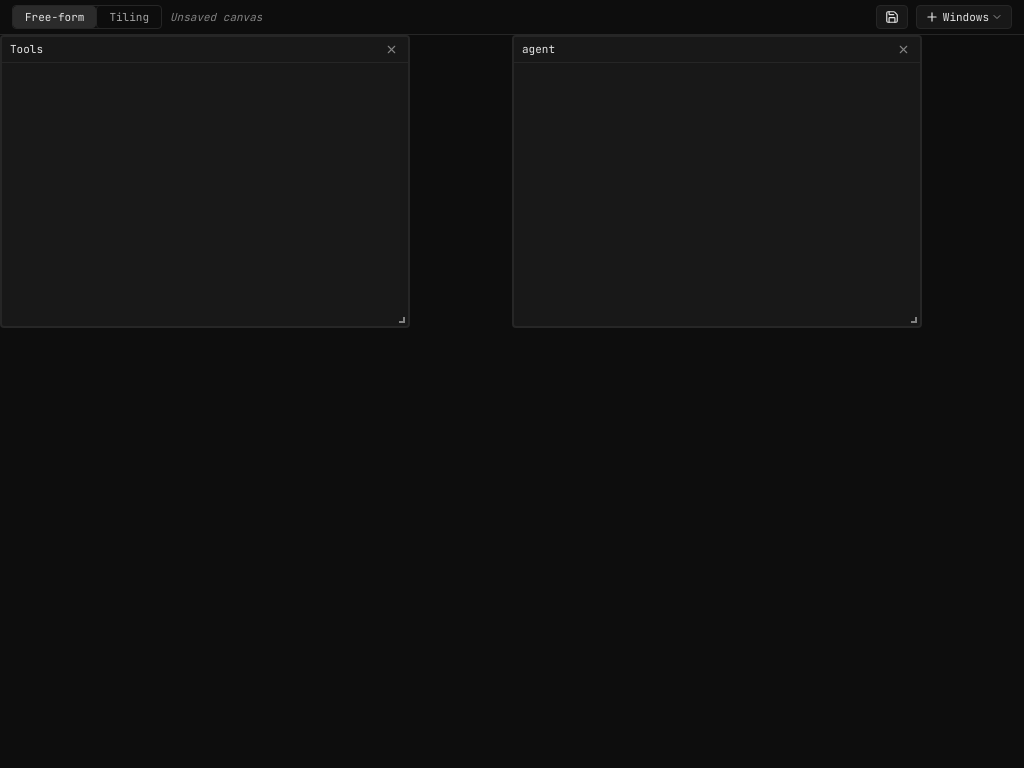
Test: WorkspaceCanvas - fullscreen reconciliation › un-hides the remaining tile when the fullscreen tile is removed by an external store mutation
Press the mouse on the element titled "Click to fullscreen · drag to move": coordinates (205, 50) left=2, top=37, right=408, bottom=63
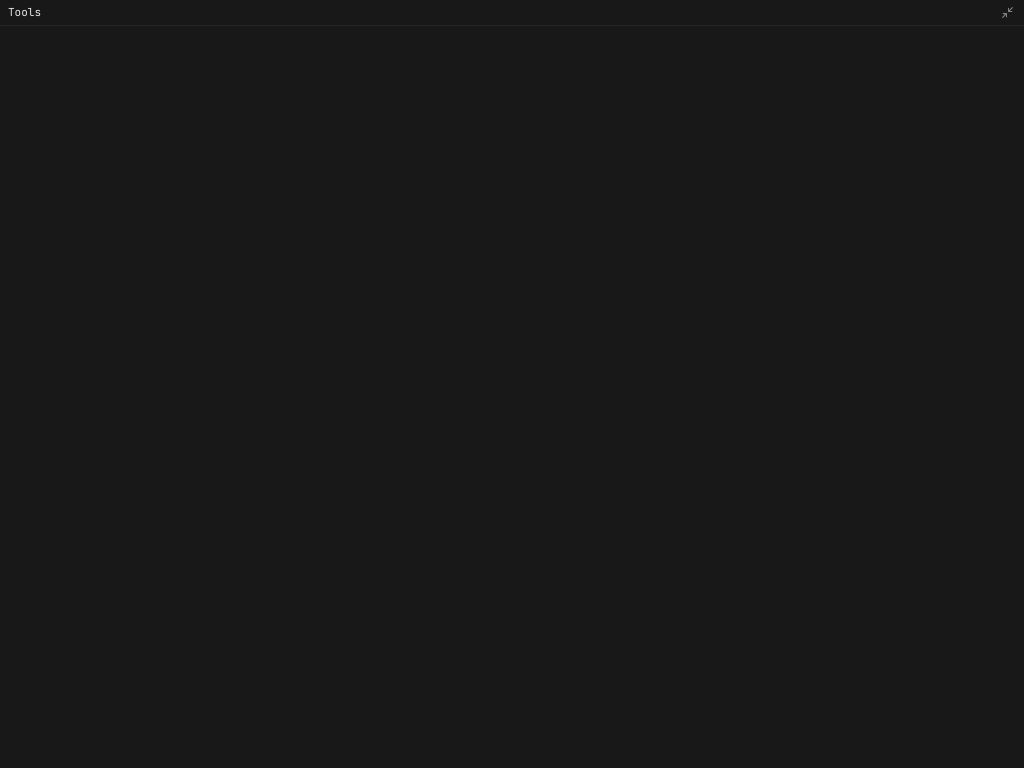
Check: the element titled "Click to exit fullscreen" is shown, box left=0, top=0, right=1023, bottom=26
